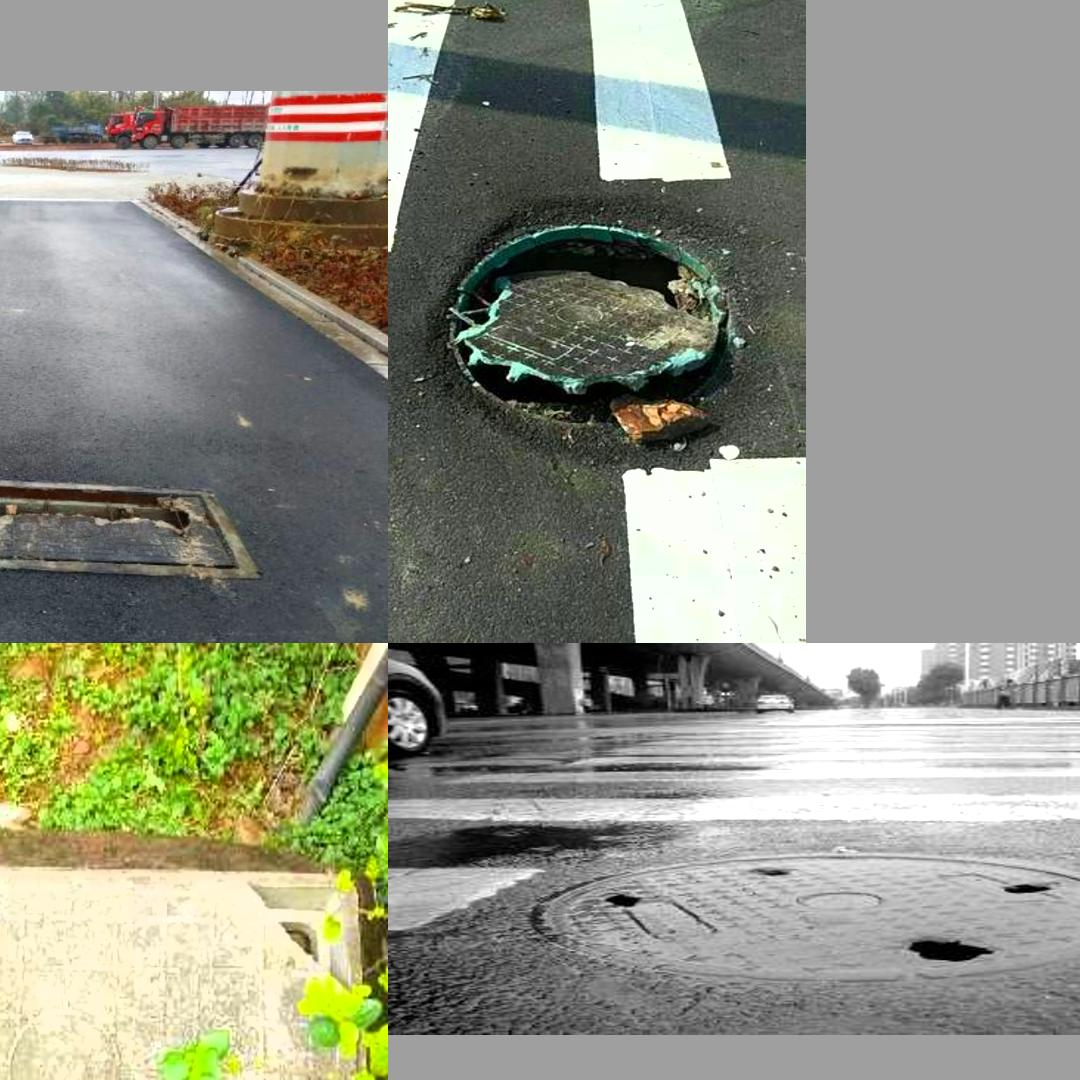broke: (401, 191, 791, 461), (0, 875, 362, 1080), (521, 864, 1080, 973), (0, 476, 261, 579)
